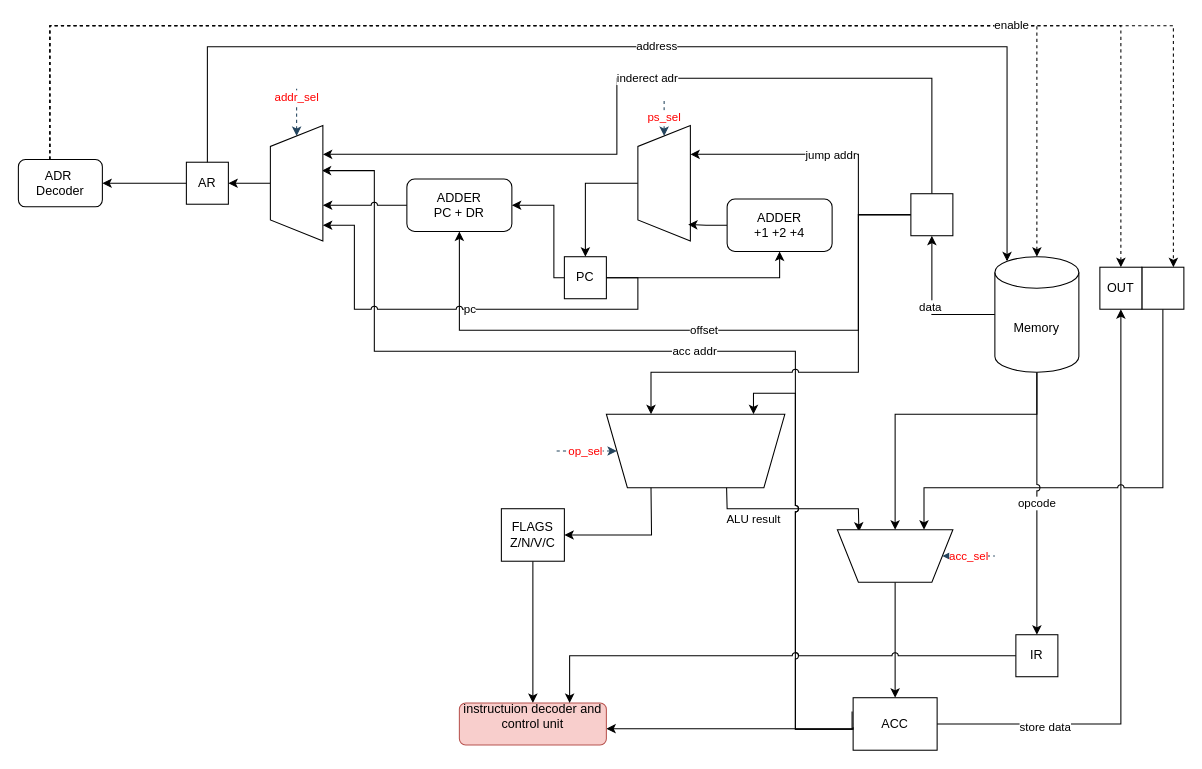
The diagram is 1202 pixels wide and 769 high, and some of its shapes have lost their labels. The shapes that lost their labels are listed below. From the top down, each one's box as (x1, y1, x2, y2) in pixels, then its label:
(269, 124, 323, 241): MUX AR
(637, 124, 690, 241): MUX PC
(910, 193, 953, 236): DR
(1141, 266, 1184, 309): IN
(605, 413, 785, 488): ALU
(836, 529, 953, 582): MUX ACC
